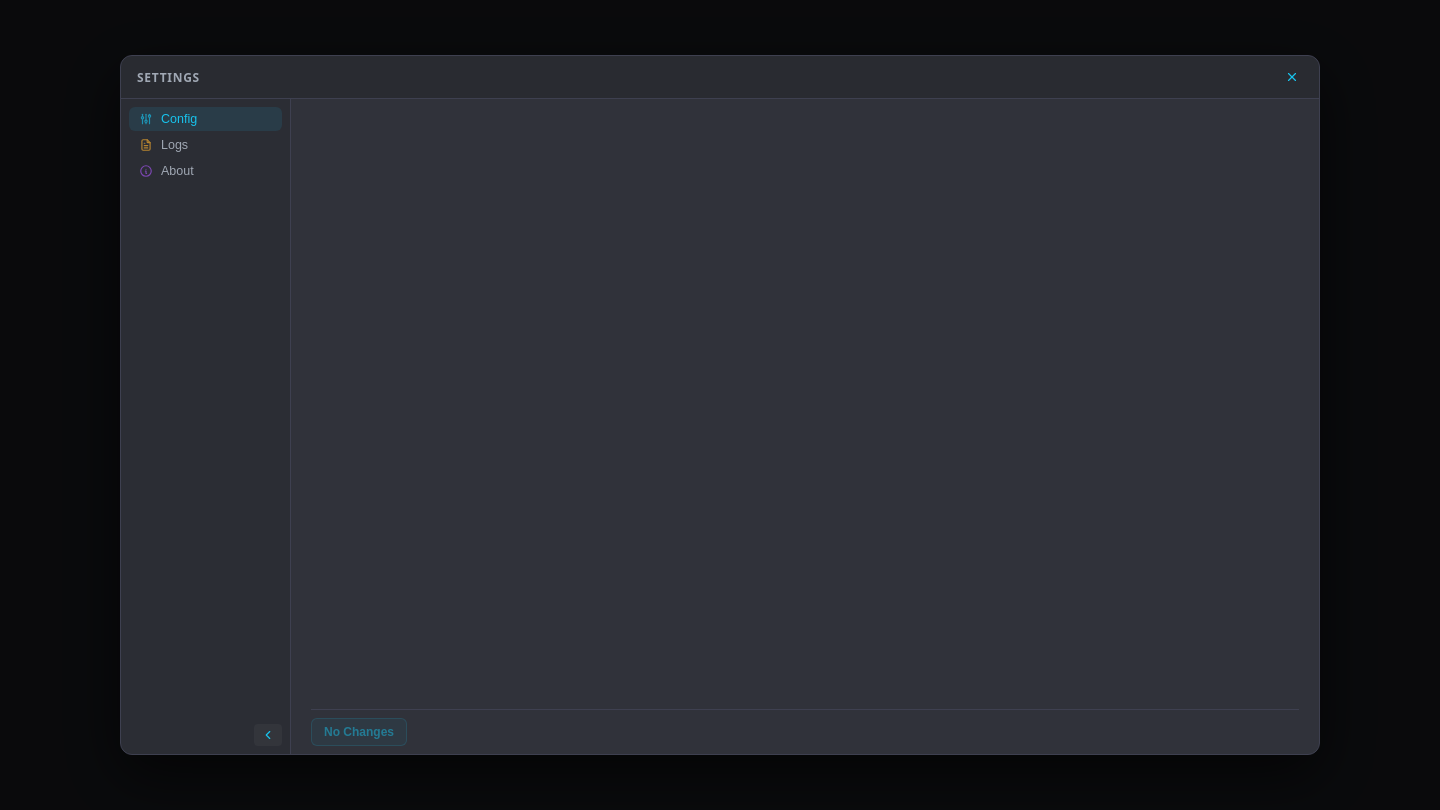
Test: SettingsOverlay shell › collapses the nav, hiding tab labels
Expected: the text "Config" is shown, [161,112,197,126]
Click the button titled "Collapse categories".
click(268, 735)  # box [254,724,282,746]
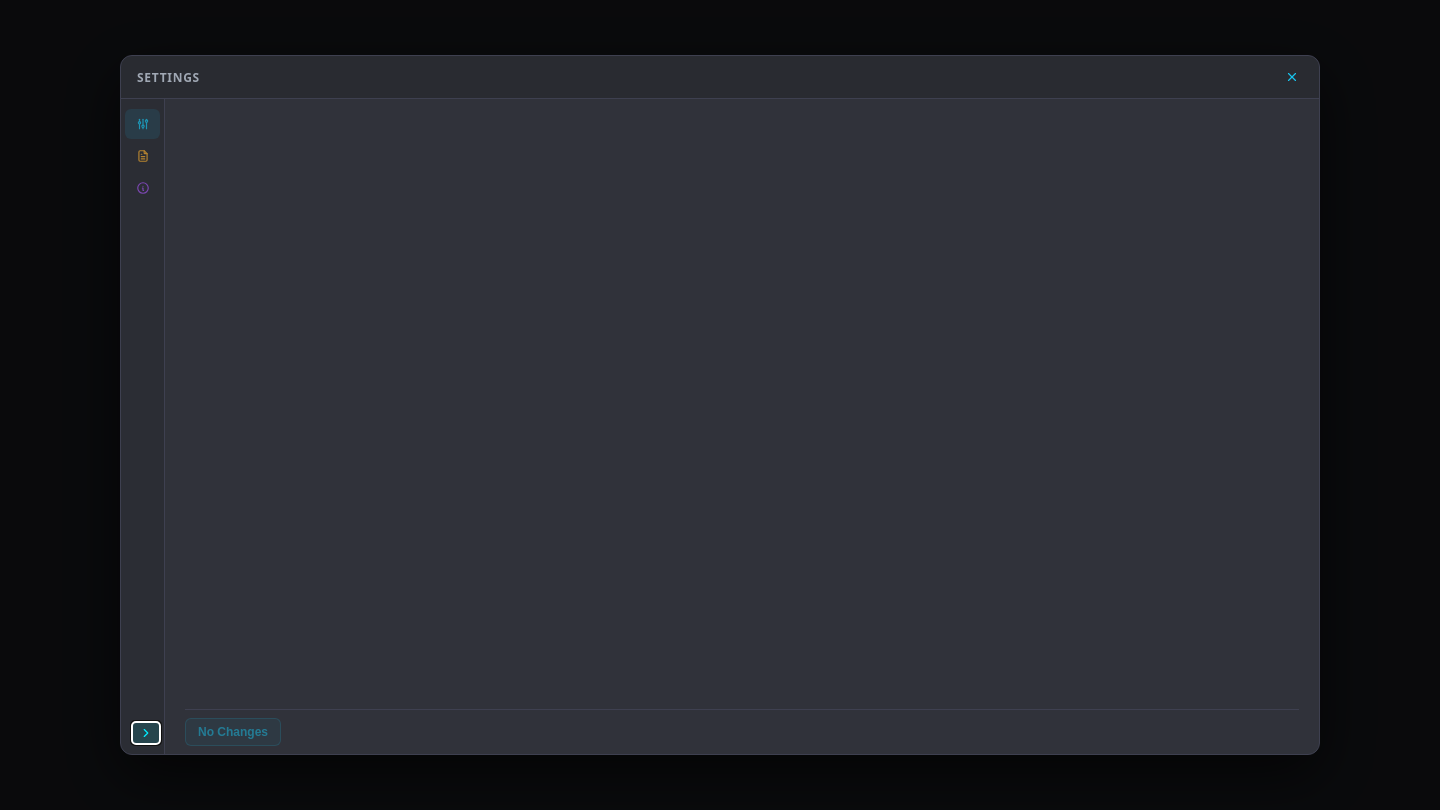
Expected: the button titled "Config" is shown, [125,109,160,139]
Expected: the text "Config" is gone
